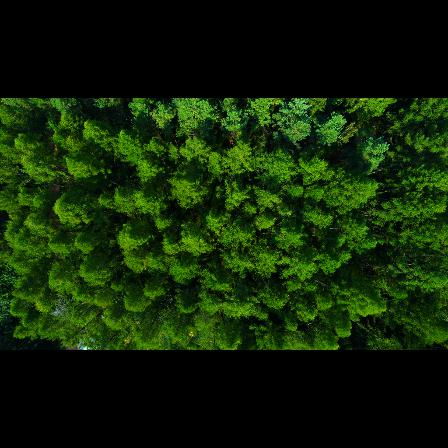Dead: (48, 294, 72, 320)
